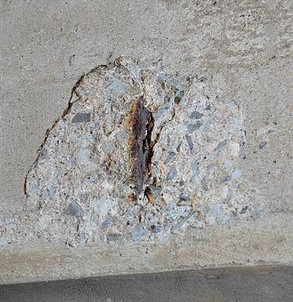Exposed reinforcement: (130, 96, 154, 203)
Spalling: (1, 54, 252, 249)
